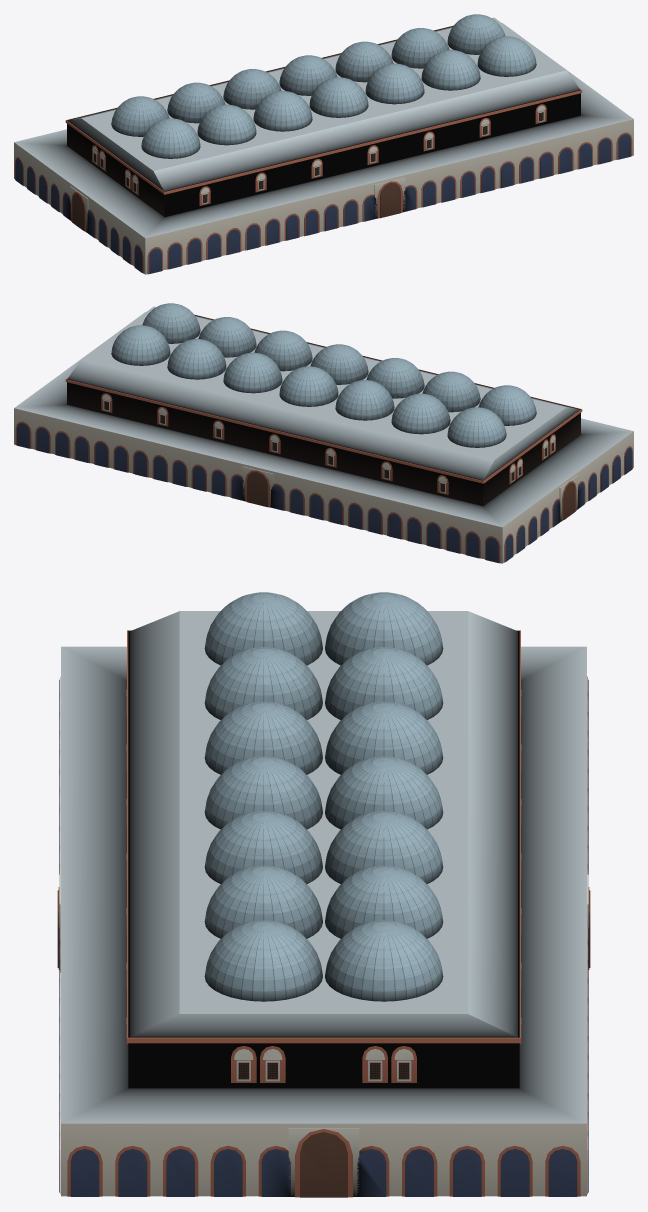
Rendered from bedesten_v02_cizgi.glb.
3 renders of one model, top to bottom at view 1: azimuth 30°, elevation 25°; view 2: azimuth 150°, elevation 25°; view 3: azimuth 270°, elevation 25°, orthographic. The views are drawn at different scales.
Visible parts, largest first — view 1: Kubbeler, Dukkanlar, Cati, Dukkan_Kapilari, Govde, Sacak, Pencereler, Kapilar; view 2: Kubbeler, Dukkanlar, Cati, Dukkan_Kapilari, Govde, Sacak, Pencereler, Kapilar; view 3: Dukkanlar, Kubbeler, Cati, Dukkan_Kapilari, Govde, Kapilar, Sacak, Pencereler.
Part boxes in pixels (<box>): Kubbeler: <box>111,14,536,158</box>; Dukkanlar: <box>14,23,633,274</box>; Cati: <box>67,17,580,191</box>; Dukkan_Kapilari: <box>15,132,632,274</box>; Govde: <box>67,26,580,216</box>; Sacak: <box>65,25,582,194</box>; Pencereler: <box>92,104,546,205</box>; Kapilar: <box>70,177,405,232</box>; Kubbeler: <box>111,303,536,447</box>; Dukkanlar: <box>14,312,633,563</box>; Cati: <box>67,306,579,480</box>; Dukkan_Kapilari: <box>15,421,632,563</box>; Govde: <box>67,315,580,505</box>; Sacak: <box>65,314,582,483</box>; Pencereler: <box>101,393,555,494</box>; Kapilar: <box>242,466,577,521</box>; Dukkanlar: <box>61,646,586,1196</box>; Kubbeler: <box>204,592,443,1001</box>; Cati: <box>130,611,517,1037</box>; Dukkan_Kapilari: <box>59,676,588,1196</box>; Govde: <box>128,631,519,1088</box>; Kapilar: <box>57,874,590,1197</box>; Sacak: <box>127,630,520,1043</box>; Pencereler: <box>126,690,521,1082</box>.
Bounding box in the file's own units: 70.84 × 13.5 × 33.24.
Materials: 9 (2 with a texture image).
